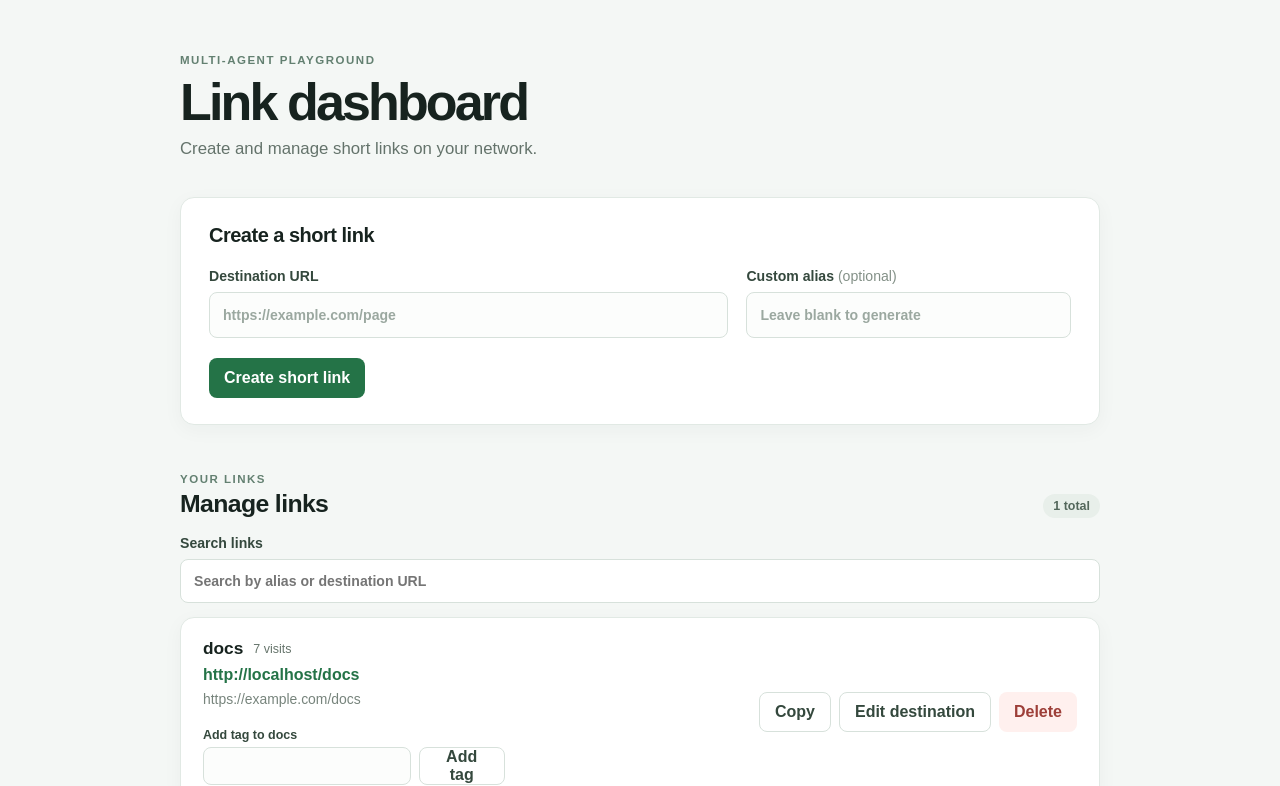
Test: link dashboard › reports create and delete errors without removing existing links
expect the heading "docs" is shown: met, box [203,638,243,659]
Type "https://another.example" into the field labelled "Destination URL".
click(469, 315); type("https://another.example")  # box [209,292,728,338]
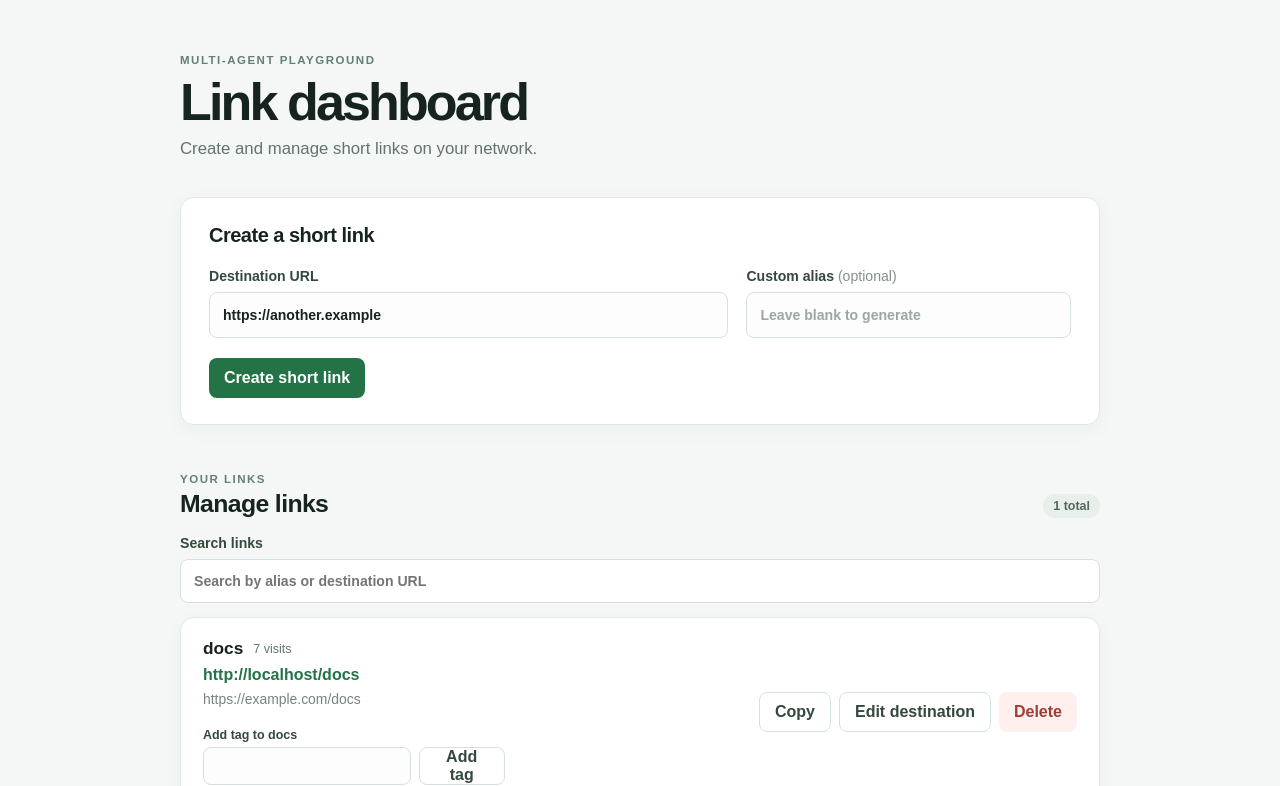
Click the button "Create short link".
click(287, 378)  # box [209,358,365,398]
(page scrolled)
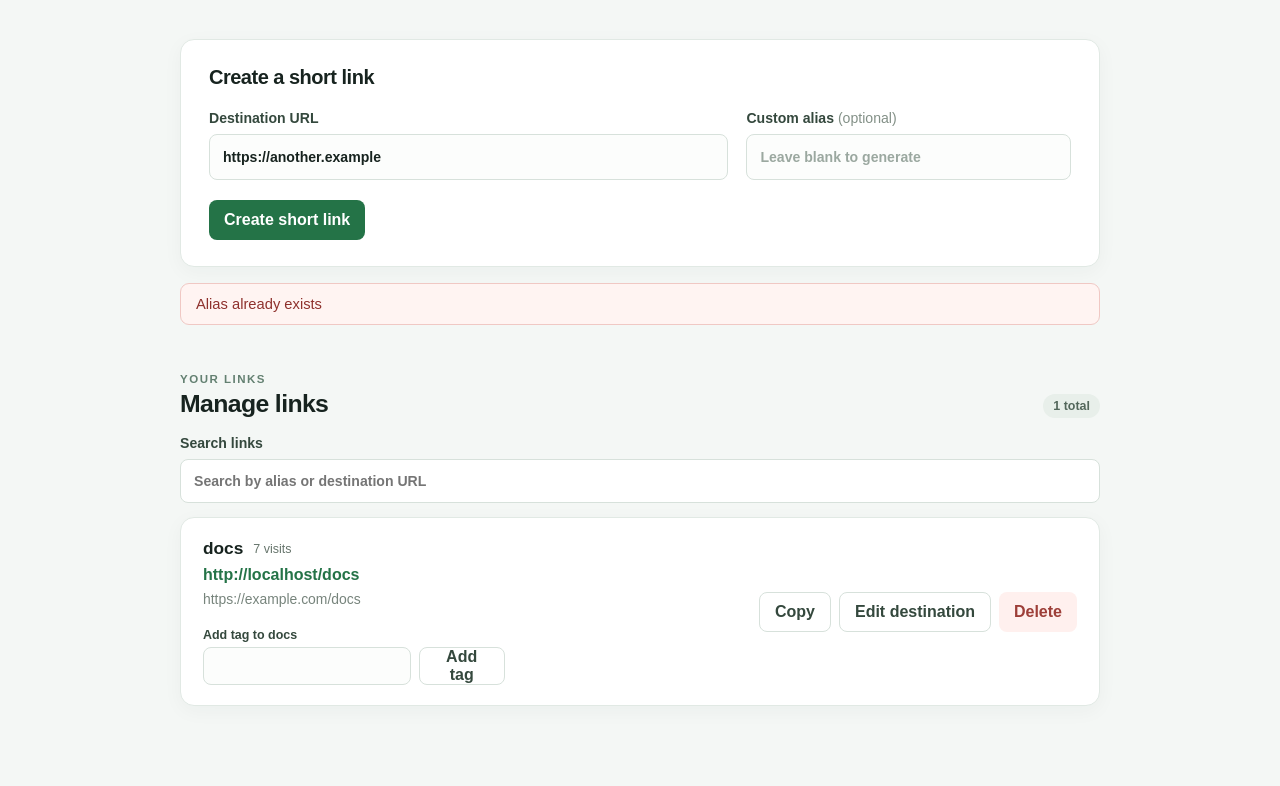
expect the message reads "Alias already exists": met, box [196,296,322,312]
Click the button "Delete".
click(1038, 612)  # box [999,592,1077,632]
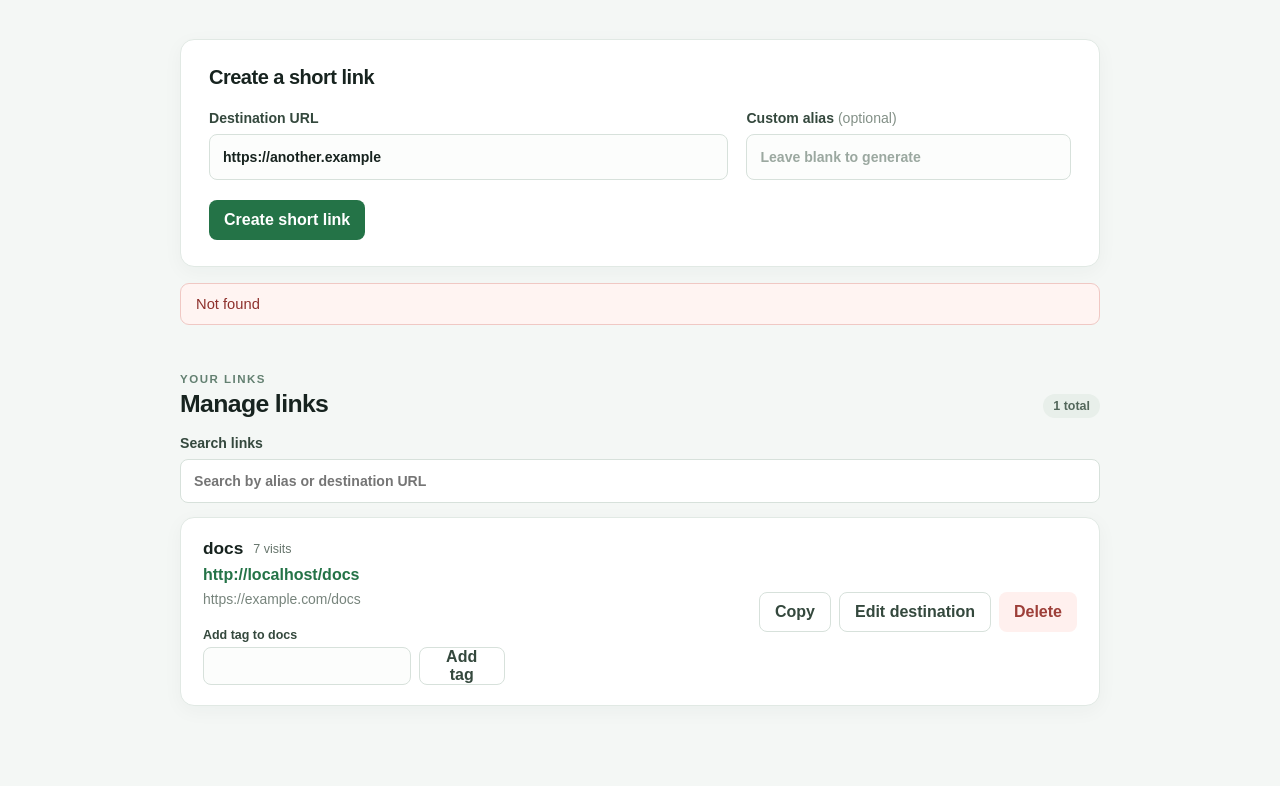
expect the heading "docs" is shown: met, box [203,538,243,559]
expect the message reads "Not found": met, box [196,296,260,312]
